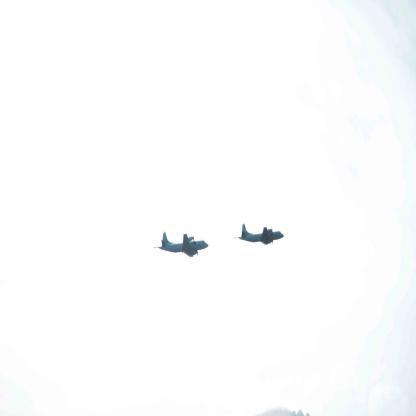CIV_Plane: (154, 221, 209, 264), (235, 221, 288, 252)
